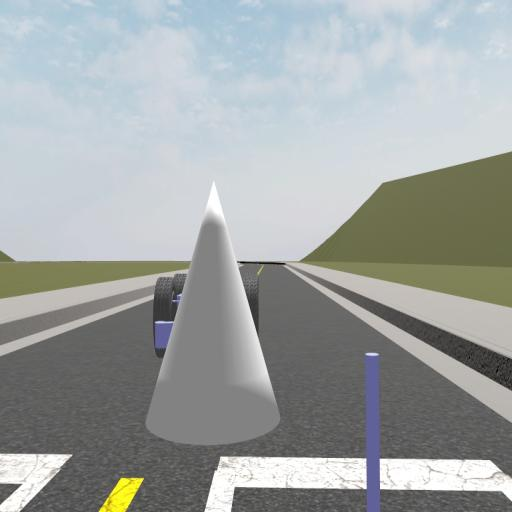ERP-42: (153, 274, 187, 361)
